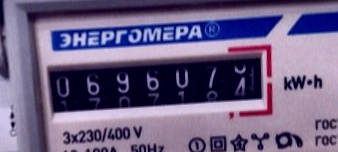0: (51, 72, 70, 97), (171, 63, 188, 89)
4: (229, 74, 246, 99)
6: (81, 70, 100, 95), (141, 65, 160, 90)
7: (201, 63, 218, 90)
9: (111, 68, 129, 93)
screen: (31, 37, 277, 127)
